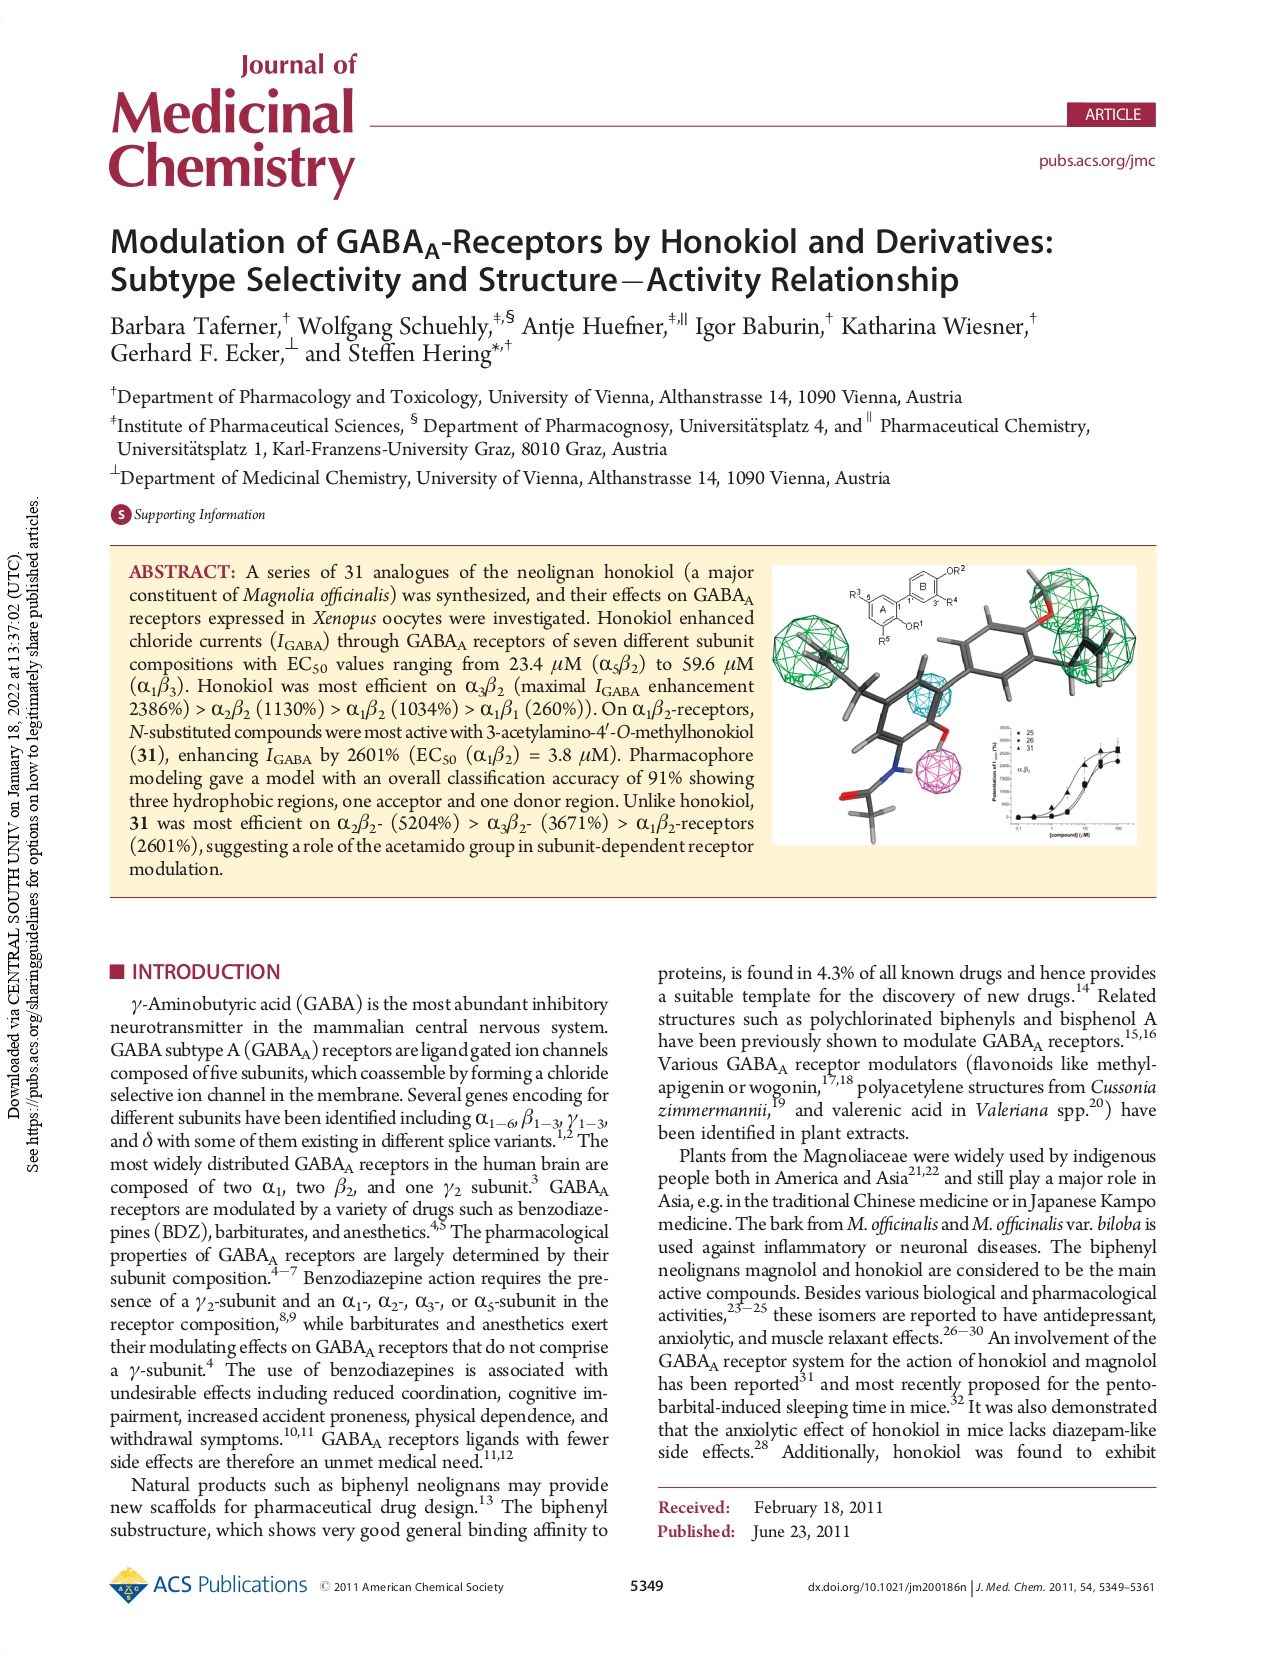exist_molecular: (847, 564, 967, 648)
